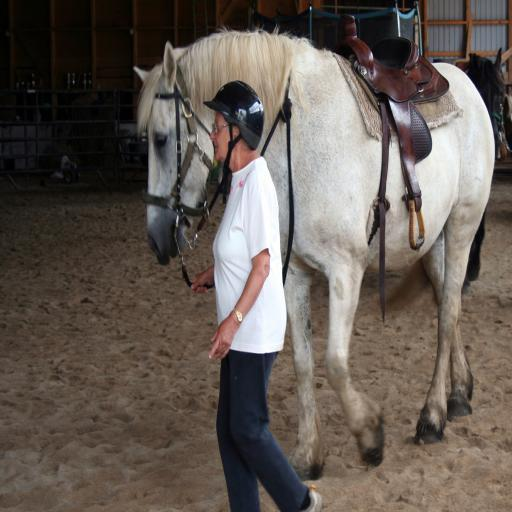horse: (133, 21, 496, 482), (464, 46, 506, 296)
